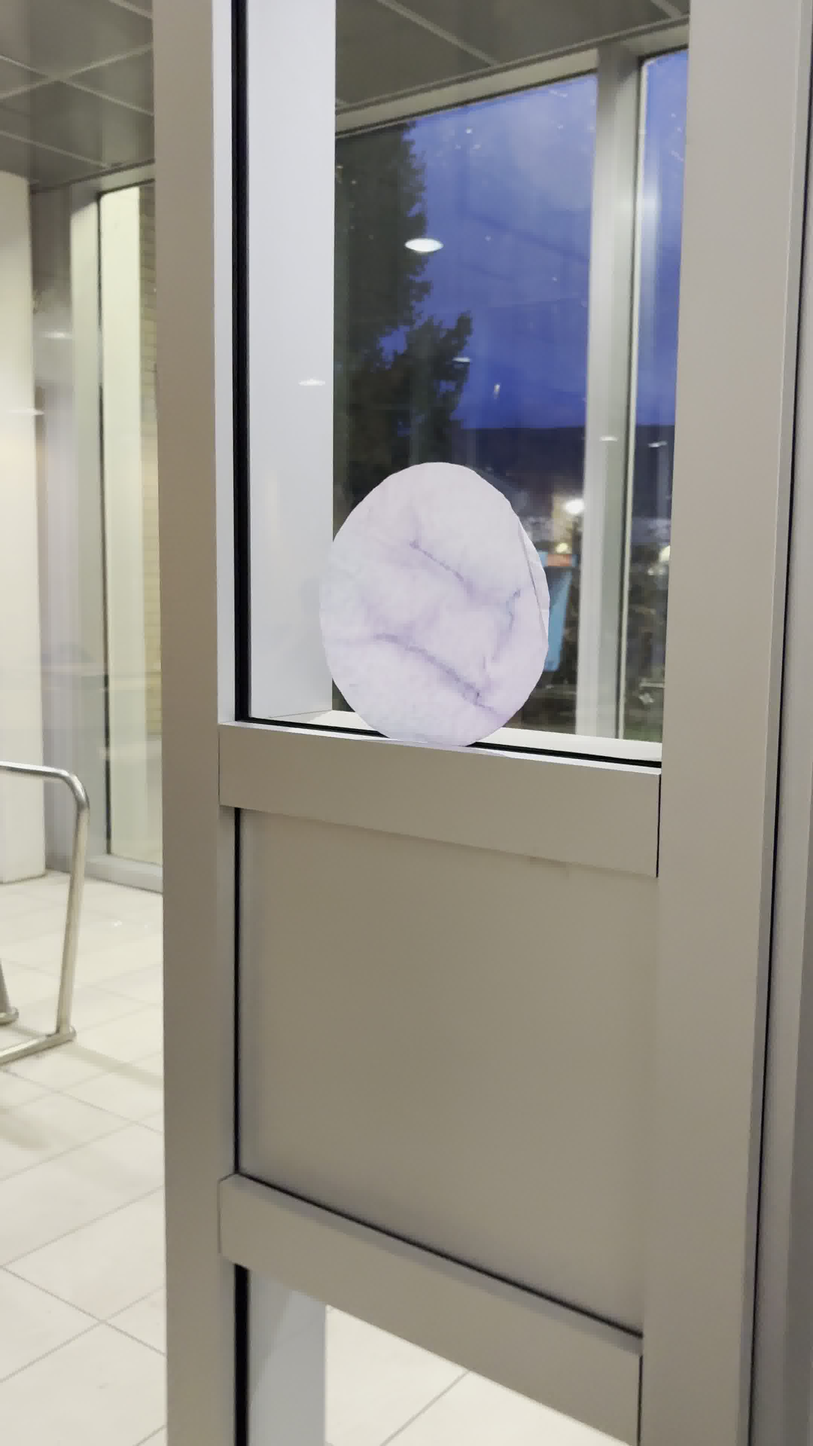Target: (318, 459, 553, 751)
